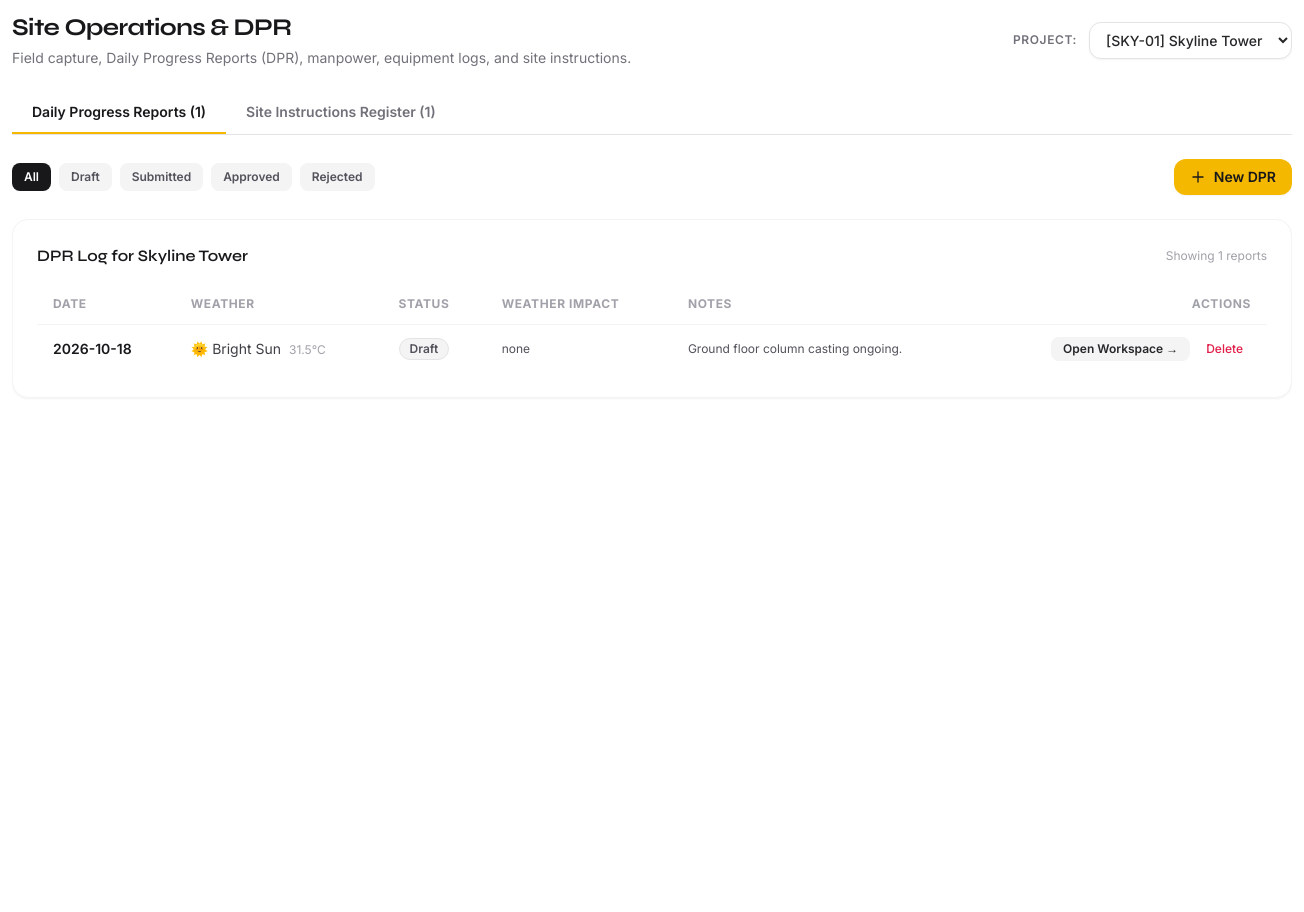
Test case: SiteOperationsPage › opens DPR workspace with child entry logs
Click the button "Open Workspace →": (1121, 349) [1051,337,1190,361]
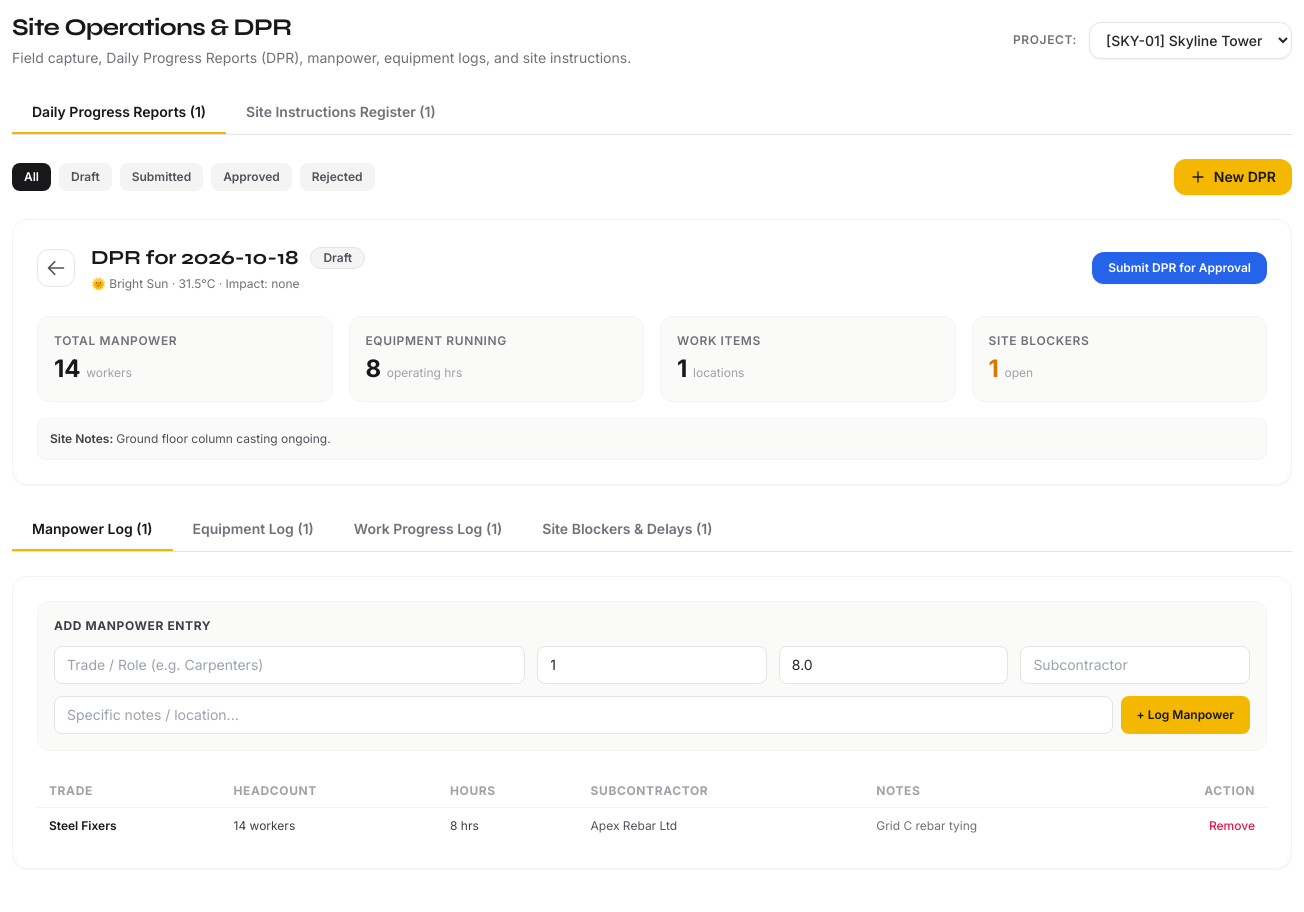
Check: the heading "DPR for 2026-10-18" is shown, box [91,244,298,272]
Check: the text "Steel Fixers" is shown, box [37,808,222,844]
Check: the text "Apex Rebar Ltd" is shown, box [579,808,864,844]
